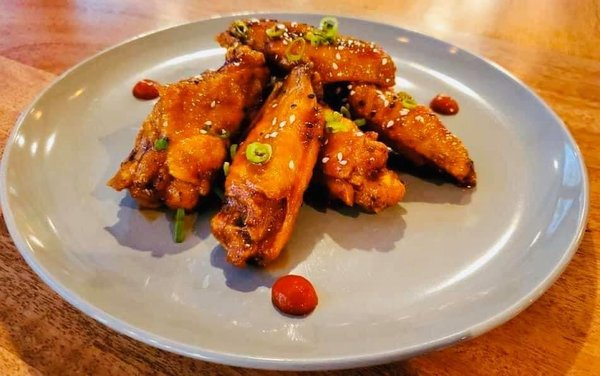curry: (11, 1, 595, 369)
